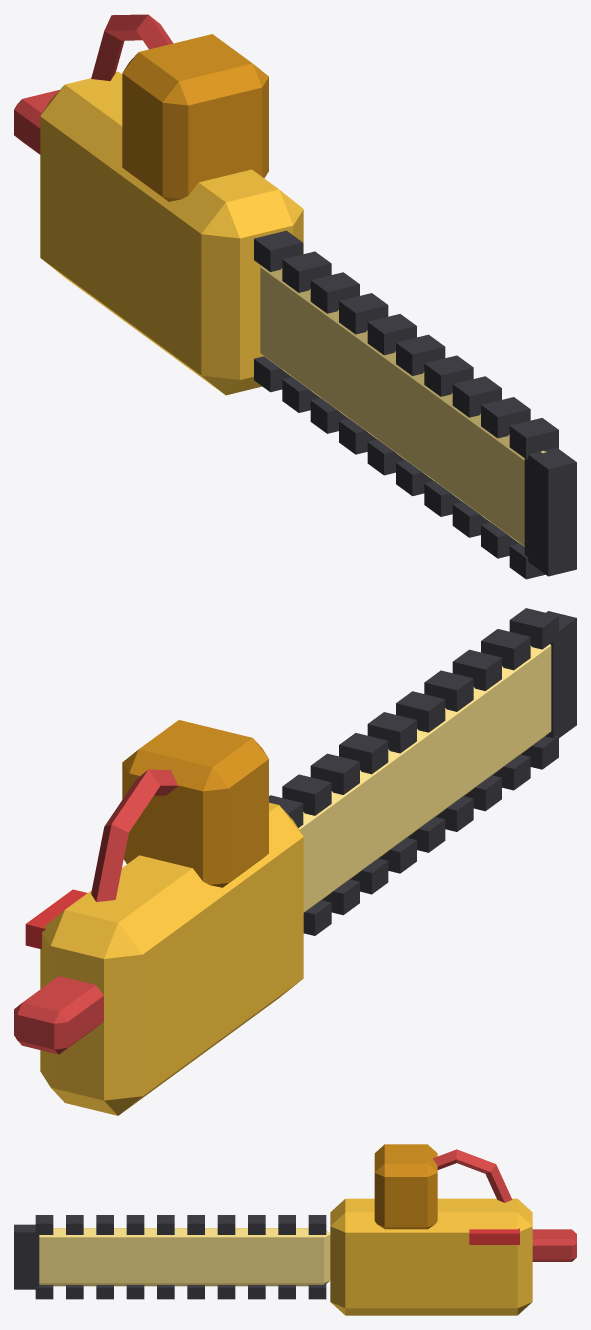
File: GoldChainsaw.fbx
3 views of the same model, one above another, from view 1: azimuth 30°, elevation 25°; view 2: azimuth 150°, elevation 25°; view 3: azimuth 270°, elevation 25° (orthographic). The views are drawn at different scales.
Visible parts, largest first — view 1: GoldChainsaw; view 2: GoldChainsaw; view 3: GoldChainsaw.
Boxes of the visible parts, left/top/right/bottom form: GoldChainsaw: left=14, top=14, right=576, bottom=579; GoldChainsaw: left=14, top=608, right=576, bottom=1115; GoldChainsaw: left=14, top=1144, right=576, bottom=1315.
Size of the model in its own units: 0.57 by 1.39 by 4.45.
Materials: 1 (1 with a texture image).
